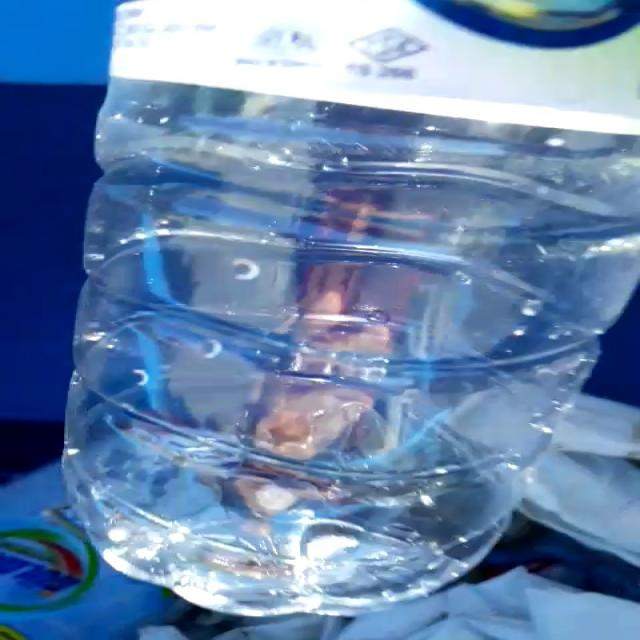plastic: (64, 0, 640, 616)
